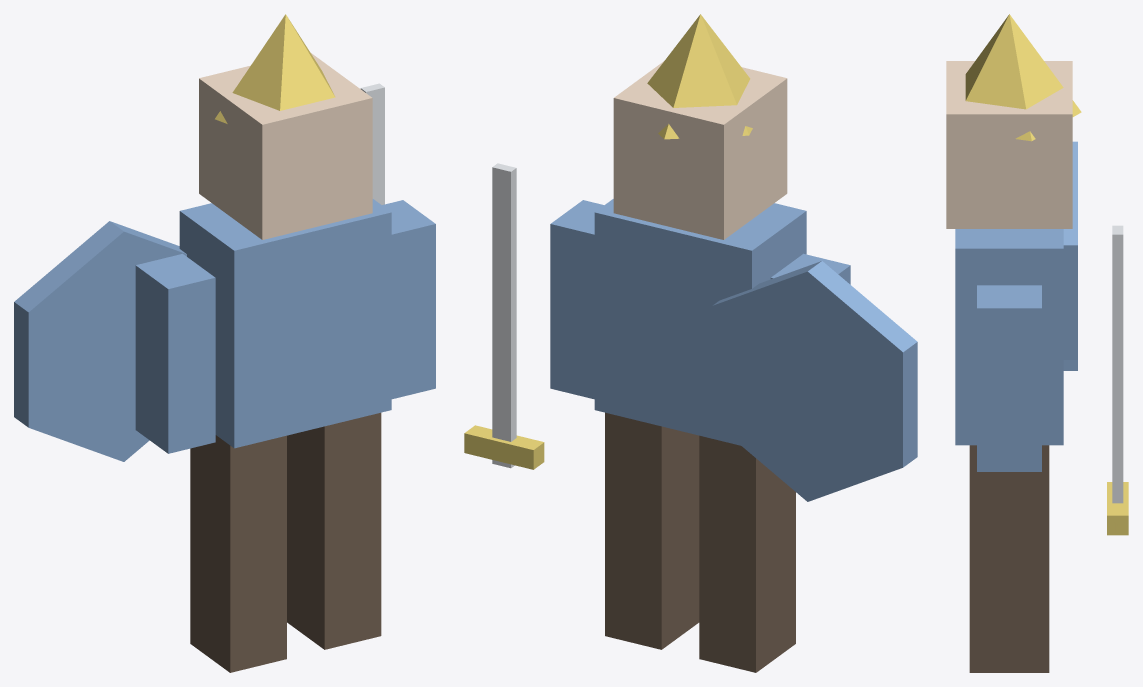
Rendered from hero_warrior.glb.
3 renders of one model, left to right at view 1: azimuth 30°, elevation 25°; view 2: azimuth 150°, elevation 25°; view 3: azimuth 270°, elevation 25°, orthographic.
Parts seen in each view (by area): view 1: Cube, Cylinder, Cube.001, Cube.002, Cube.003, Cube.004, Cube.005, Cone, Cube.006; view 2: Cylinder, Cube, Cube.001, Cube.003, Cube.002, Cube.005, Cube.006, Cone, Cube.007, Cube.004; view 3: Cube.001, Cube.003, Cube, Cube.005, Cone, Cube.006, Cylinder, Cube.007.
Boxes of the visible parts, <box> form: Cube: <box>179,199,391,448</box>; Cylinder: <box>14,221,186,461</box>; Cube.001: <box>199,52,372,239</box>; Cube.002: <box>190,435,286,672</box>; Cube.003: <box>287,412,381,649</box>; Cube.004: <box>135,253,215,453</box>; Cube.005: <box>382,200,435,399</box>; Cone: <box>215,14,335,123</box>; Cube.006: <box>360,83,384,204</box>; Cylinder: <box>712,261,917,501</box>; Cube: <box>594,199,806,445</box>; Cube.001: <box>613,61,787,239</box>; Cube.003: <box>605,412,699,649</box>; Cube.002: <box>699,435,795,672</box>; Cube.005: <box>550,200,603,399</box>; Cube.006: <box>492,163,516,468</box>; Cone: <box>647,14,752,139</box>; Cube.007: <box>464,425,544,469</box>; Cube.004: <box>770,253,850,284</box>; Cube.001: <box>946,61,1072,228</box>; Cube.003: <box>969,445,1049,672</box>; Cube: <box>955,229,1063,445</box>; Cube.005: <box>977,285,1041,471</box>; Cone: <box>965,14,1081,141</box>; Cube.006: <box>1112,225,1123,503</box>; Cylinder: <box>1063,141,1077,370</box>; Cube.007: <box>1107,482,1128,535</box>.
Bounding box in the file's own units: 1.31 × 1.9 × 0.505.
